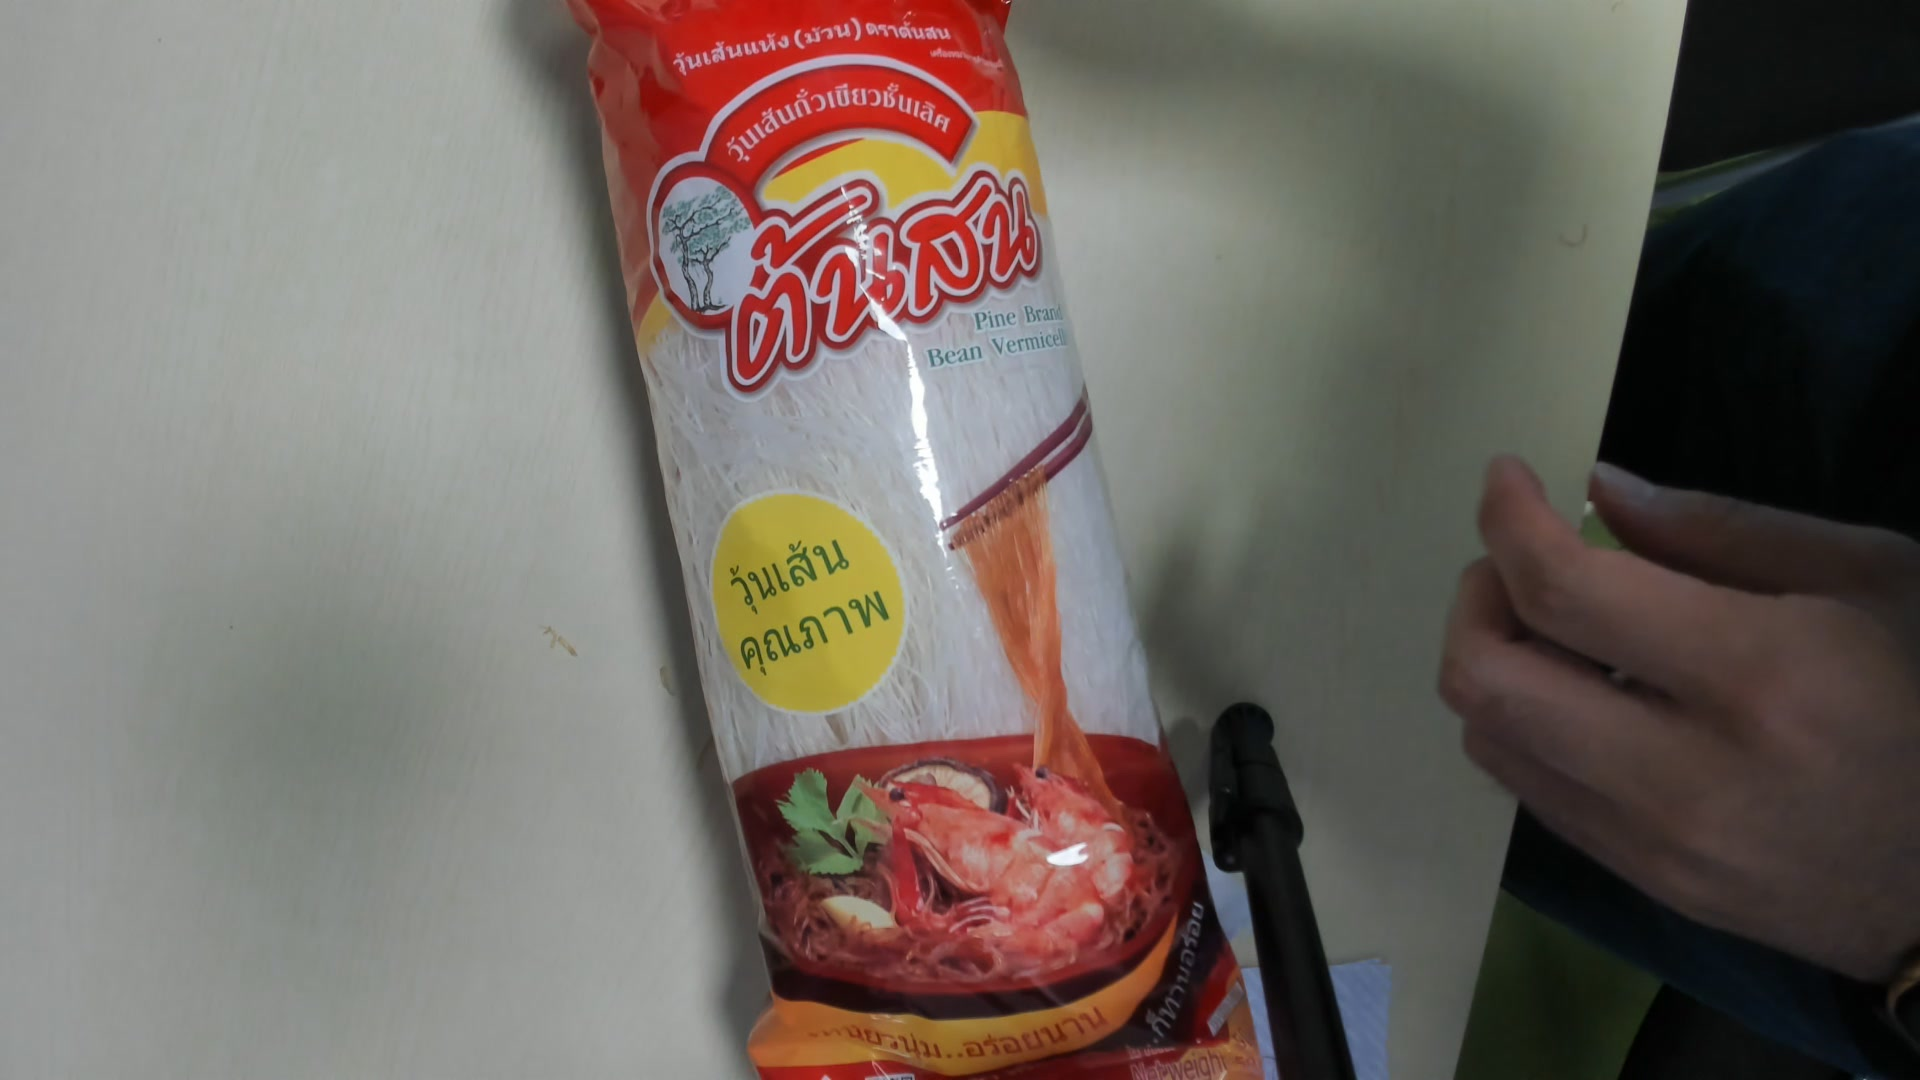BeeHoonVermicelli_500-599g_Halal_NonHealthy: (575, 1, 1261, 1080)
